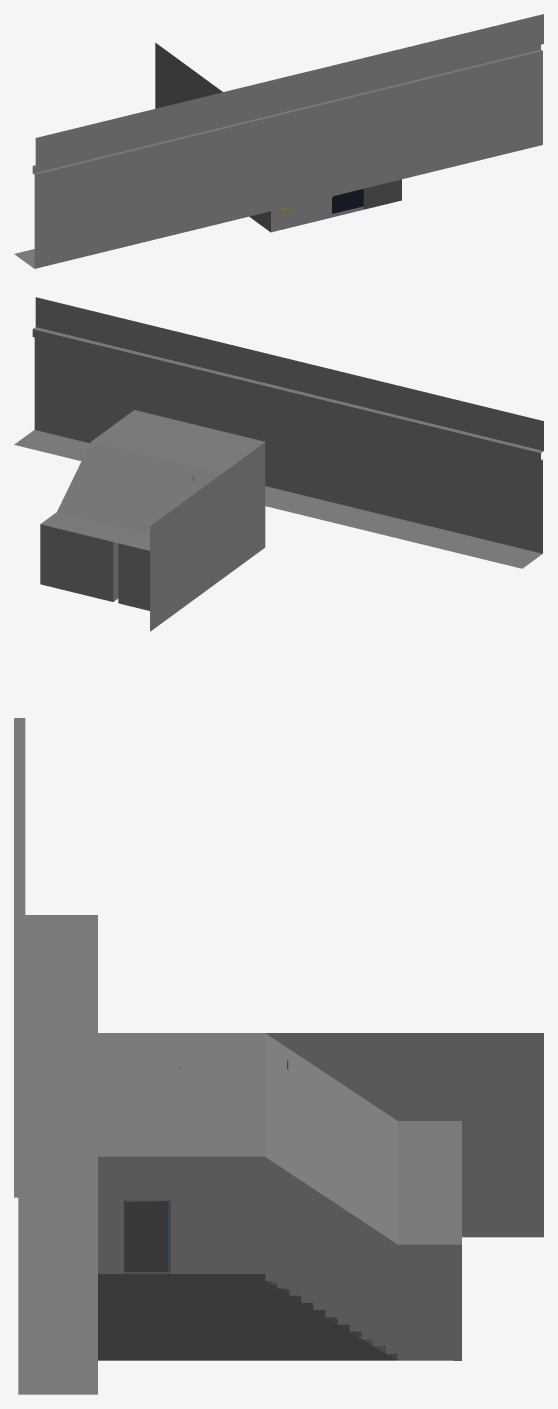
The model's file is AriesRoom.fbx.
3 views of the same model, one above another, from view 1: azimuth 30°, elevation 25°; view 2: azimuth 150°, elevation 25°; view 3: azimuth 270°, elevation 25° (orthographic). The views are drawn at different scales.
Visible parts, largest first — view 1: Plane.003, Plane.001, Cube.017; view 2: Plane.003, Plane.001; view 3: Plane.001, Plane.003.
Part boxes in pixels (x1,y1,x2,y2): Plane.003: (14,14,543,268); Plane.001: (155,42,401,232); Cube.017: (332,189,363,213); Plane.003: (14,297,543,568); Plane.001: (40,410,265,631); Plane.001: (98,1033,543,1360); Plane.003: (14,718,97,1394).
Size of the model in its own units: 30662 by 9991 by 14319.
35 materials, 8 textured.
